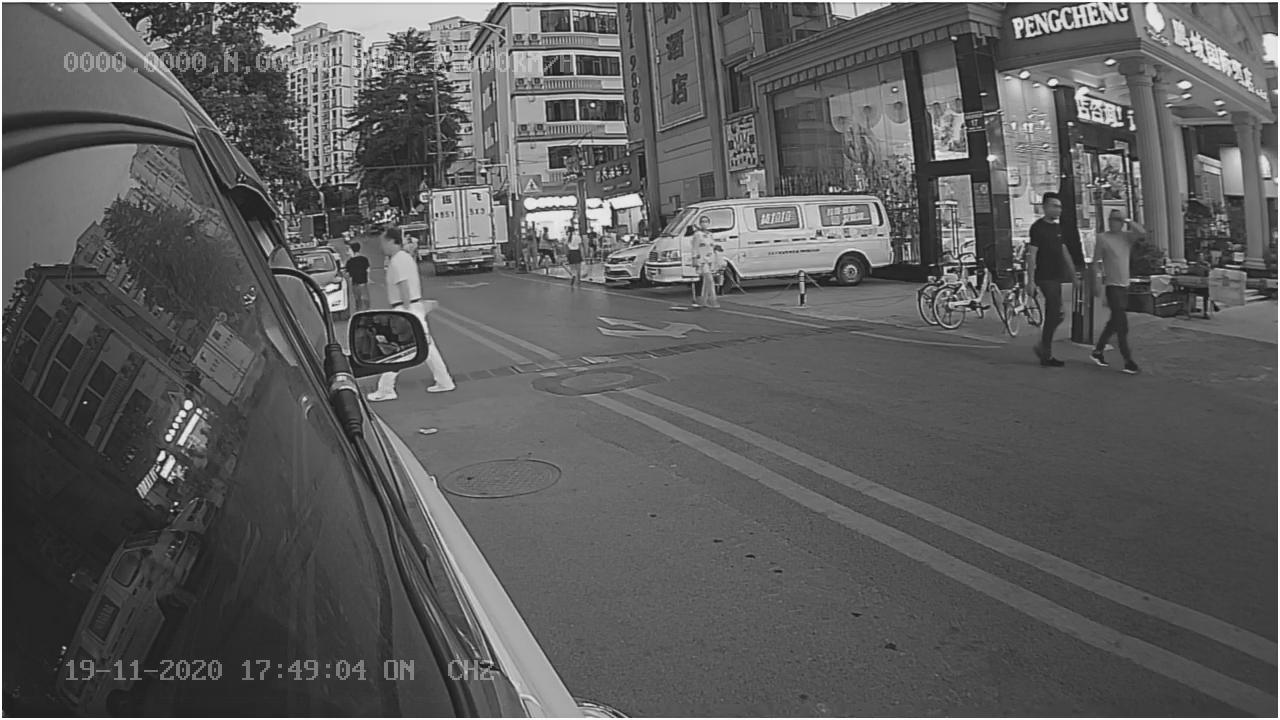person: (369, 227, 423, 310)
